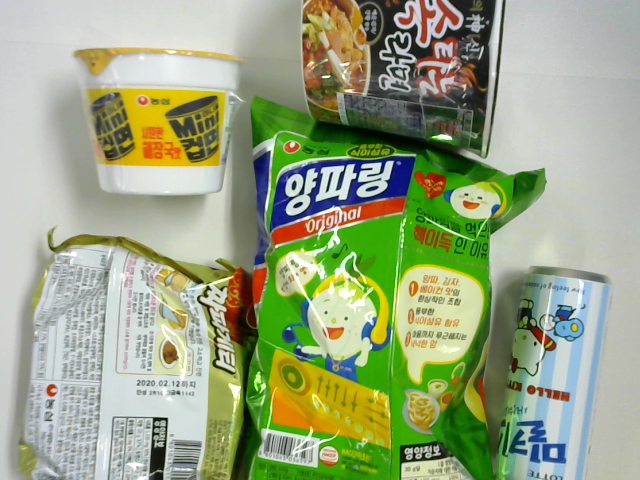Milkies_250ml: (492, 252, 609, 475)
Ojjam: (283, 1, 517, 134)
Olive_Chapaghetti: (31, 254, 246, 480)
Oninon_Ring: (244, 132, 504, 480)
Udongmini: (76, 43, 240, 193)
